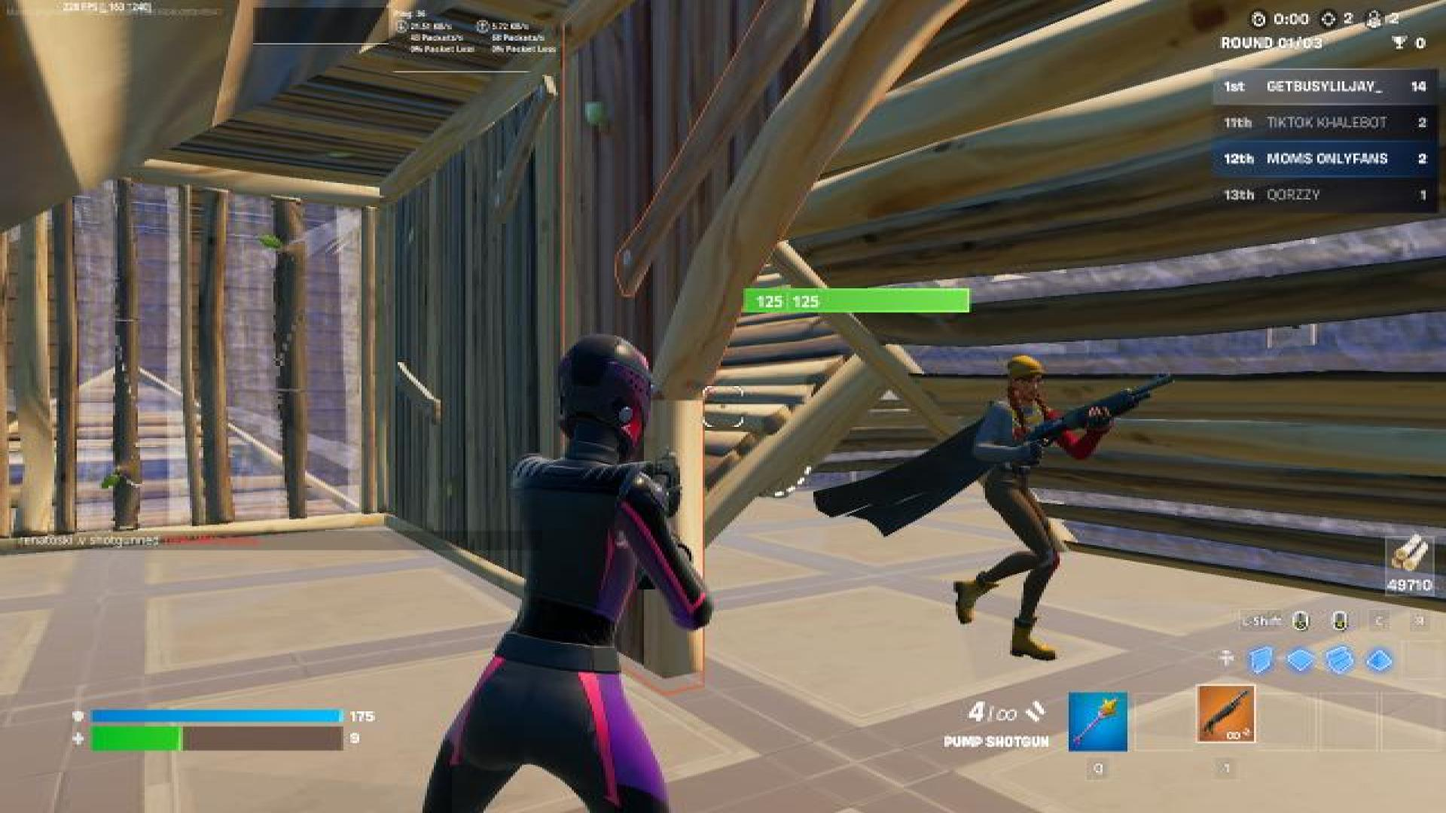player: (947, 356, 1121, 674)
